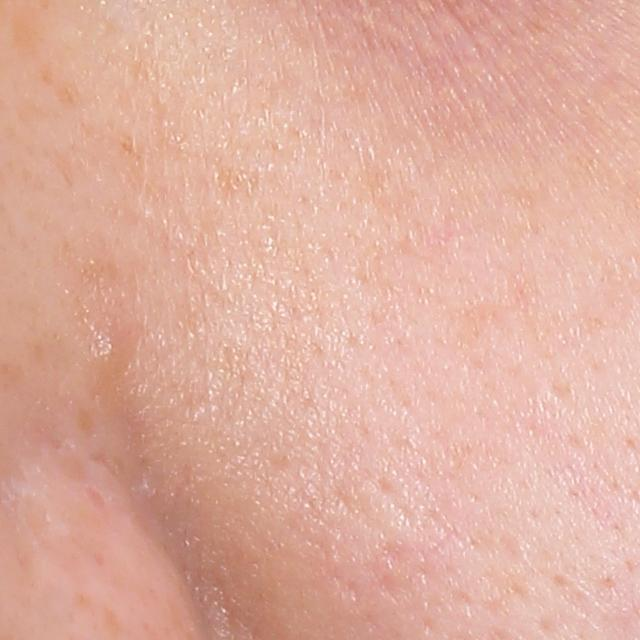melasma: (39, 62, 91, 117), (12, 7, 51, 53)
